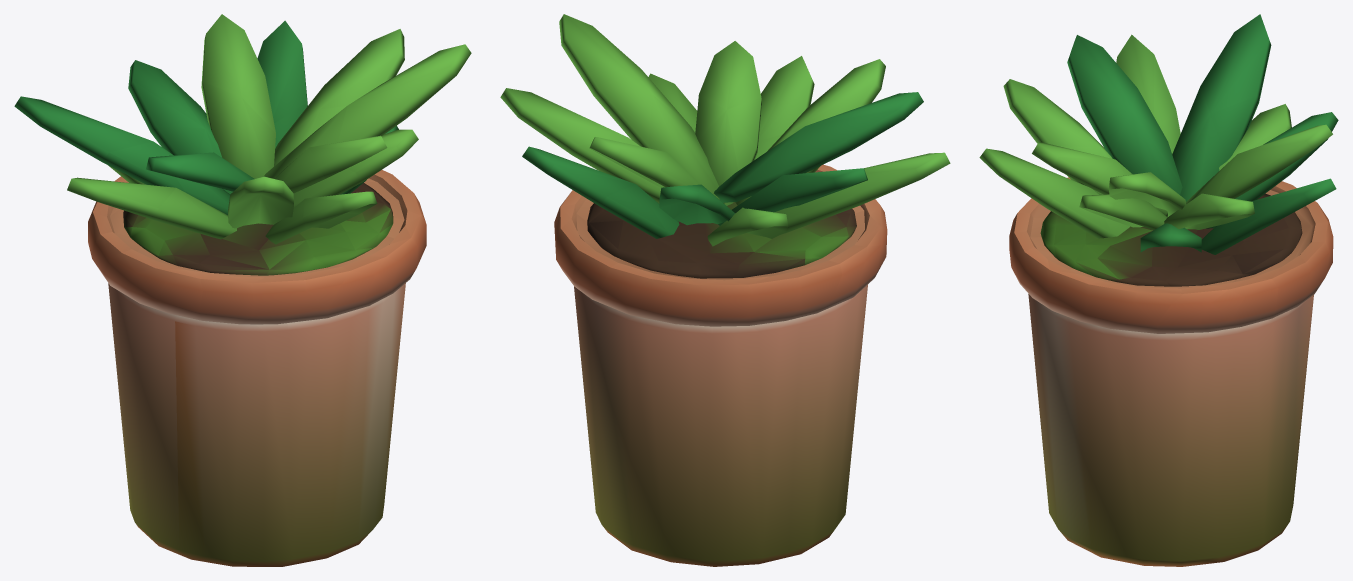
Rendered from canopy_pot_plant_lod1.glb.
3 renders of one model, left to right at view 1: azimuth 30°, elevation 25°; view 2: azimuth 150°, elevation 25°; view 3: azimuth 270°, elevation 25°, orthographic. The views are drawn at different scales.
Parts seen in each view (by area): view 1: canopy_pot_plant.001; view 2: canopy_pot_plant.001; view 3: canopy_pot_plant.001.
Part boxes in pixels (x1,y1,x2,y2): canopy_pot_plant.001: (14,14,471,566); canopy_pot_plant.001: (500,14,950,566); canopy_pot_plant.001: (979,14,1338,566).
Bounding box in the file's own units: 4.43 × 4.71 × 3.58.
